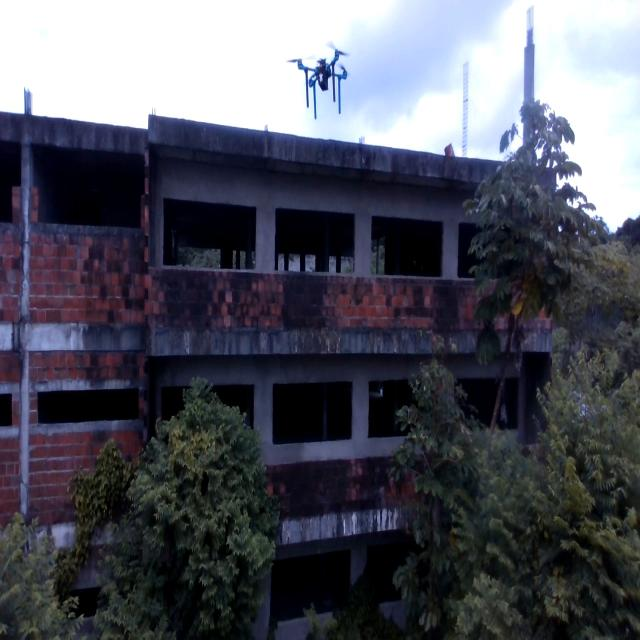-uav-: (283, 31, 355, 122)
